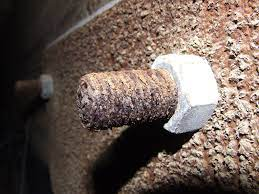rust: (47, 16, 255, 57), (70, 141, 252, 182), (70, 68, 181, 131), (220, 5, 259, 181), (13, 79, 44, 95)
